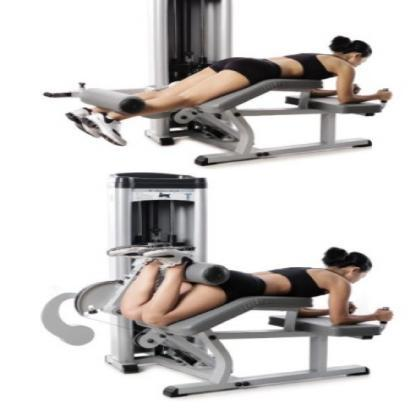reg curl machine: (38, 162, 402, 400), (31, 0, 402, 170)
